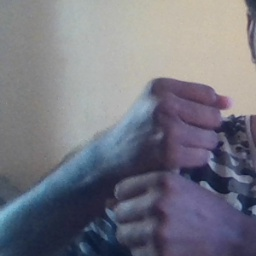G: (101, 74, 242, 255)
